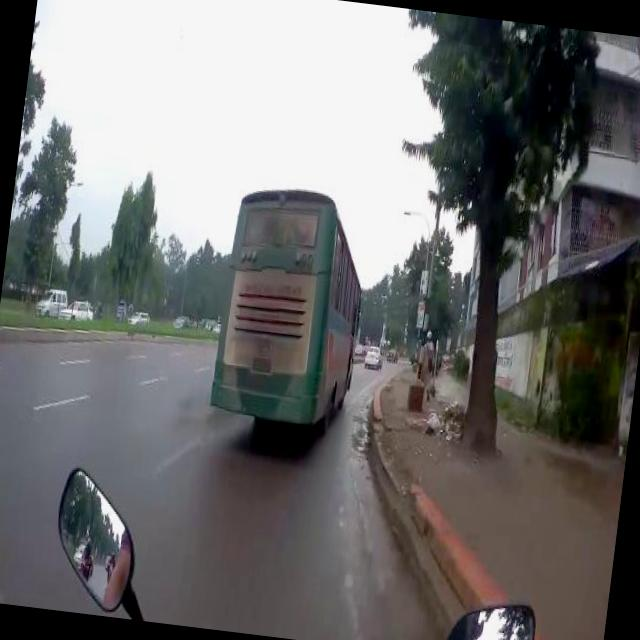bus: (202, 172, 378, 460)
car: (362, 340, 388, 369)
